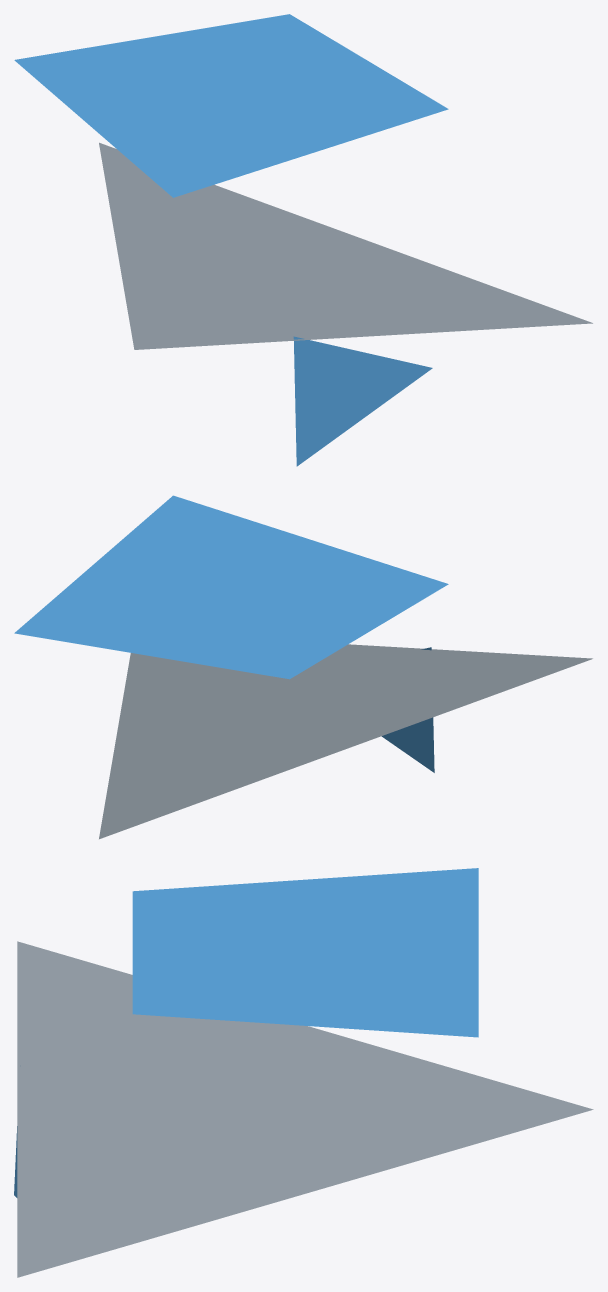
File: AL_Barracks_LOD2.glb
The picture shows the model from 3 angles, top to bottom: view 1: azimuth 30°, elevation 25°; view 2: azimuth 150°, elevation 25°; view 3: azimuth 270°, elevation 25°; orthographic projection. The views are drawn at different scales.
Visible parts, largest first — view 1: EntranceGate; view 2: EntranceGate; view 3: EntranceGate.
Boxes of the visible parts, x1=… form: EntranceGate: x1=14, y1=14, x2=592, y2=466; EntranceGate: x1=14, y1=495, x2=592, y2=839; EntranceGate: x1=14, y1=868, x2=593, y2=1277.
Size of the model in its own units: 600 by 333 by 603.
